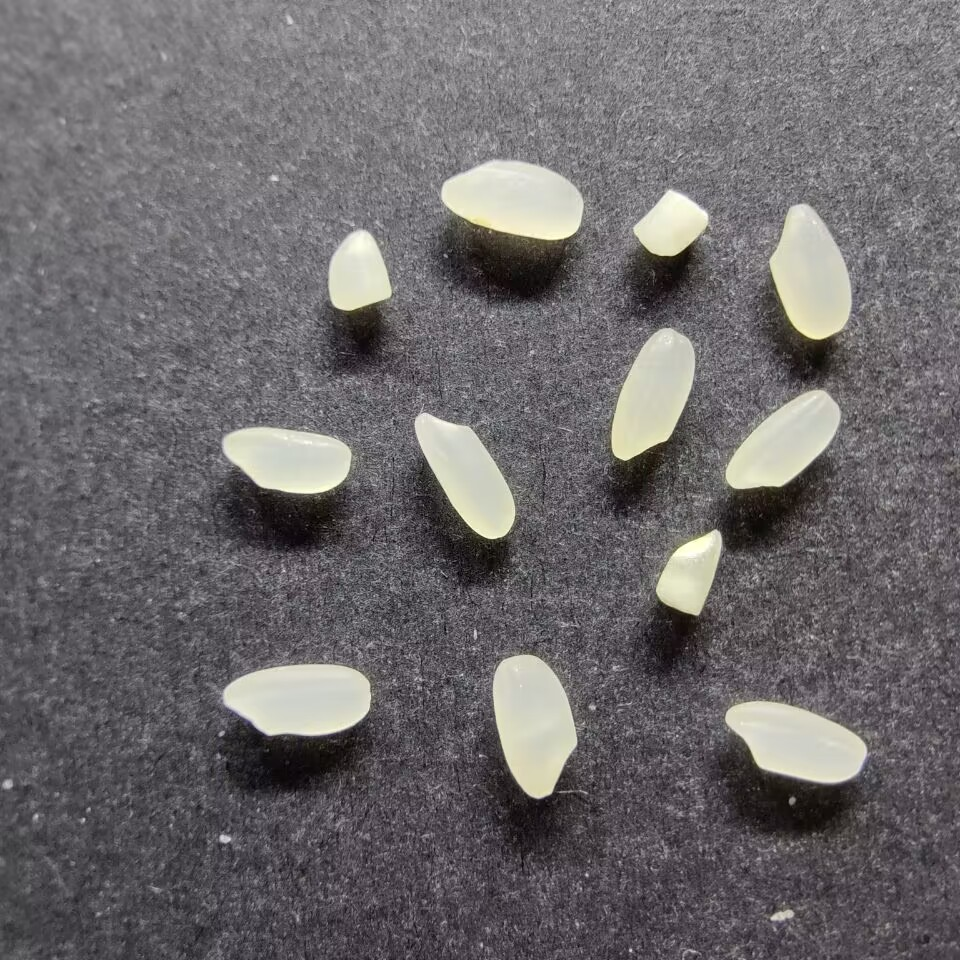broken: (655, 527, 722, 616), (327, 229, 392, 310), (632, 189, 708, 257)
rice: (413, 412, 516, 540), (491, 653, 577, 799), (724, 700, 866, 784), (724, 389, 841, 490), (439, 160, 583, 241), (610, 327, 695, 461), (768, 203, 851, 339), (222, 664, 371, 737), (221, 427, 351, 494)
